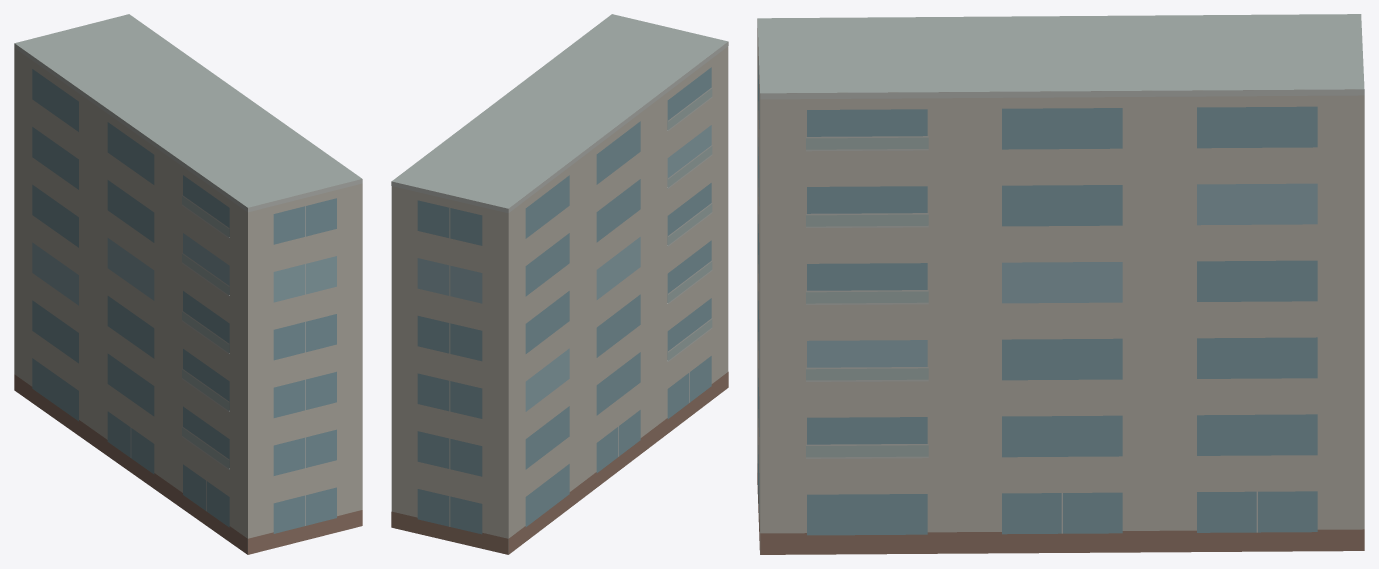
The model's file is survey-upis-32571994.glb.
The picture shows the model from 3 angles, left to right: view 1: azimuth 30°, elevation 25°; view 2: azimuth 150°, elevation 25°; view 3: azimuth 270°, elevation 25°; orthographic projection. The views are drawn at different scales.
Parts seen in each view (by area): view 1: survey-upis-32571994.tmp; view 2: survey-upis-32571994.tmp; view 3: survey-upis-32571994.tmp.
Boxes of the visible parts, x1,y1,x2,y2 form: survey-upis-32571994.tmp: (14, 14, 362, 554); survey-upis-32571994.tmp: (391, 14, 728, 554); survey-upis-32571994.tmp: (757, 14, 1364, 554).
Bounding box in the file's own units: 6.8 × 18.4 × 21.94.
